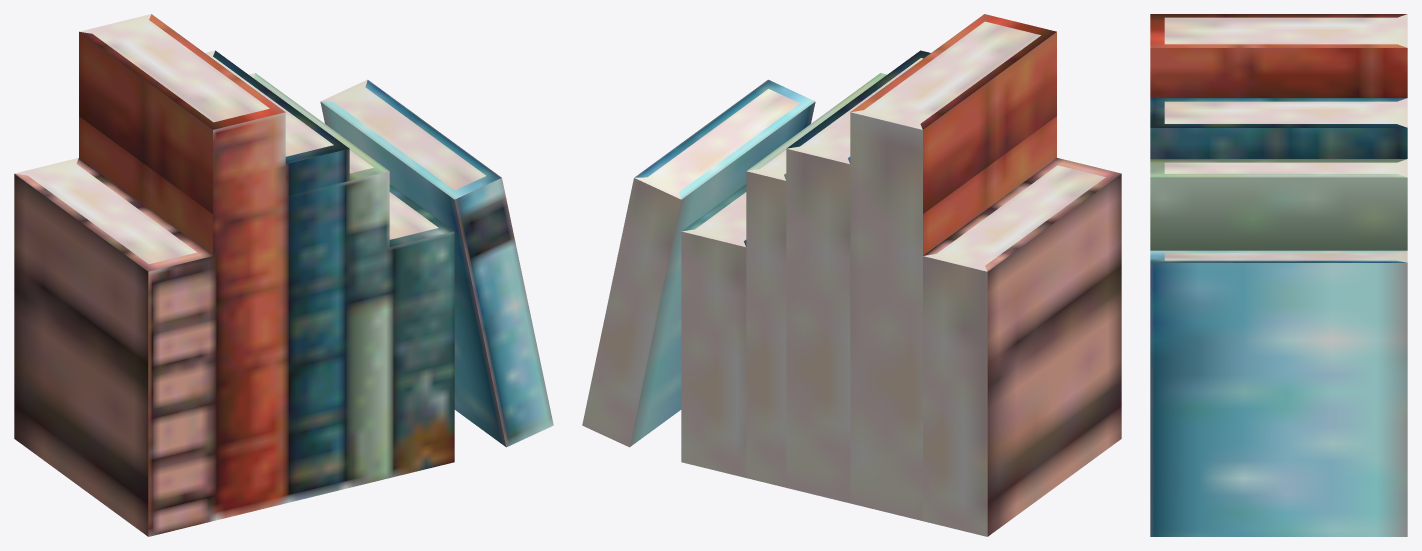
The model's file is books_alt.obj.
The picture shows the model from 3 angles, left to right: view 1: azimuth 30°, elevation 25°; view 2: azimuth 150°, elevation 25°; view 3: azimuth 270°, elevation 25°; orthographic projection. The views are drawn at different scales.
Visible parts, largest first — view 1: books_alt; view 2: books_alt; view 3: books_alt.
Part boxes in pixels (x1,y1,x2,y2): books_alt: (14,14,553,536); books_alt: (582,14,1121,536); books_alt: (1150,14,1407,536).
Bounding box in the file's own units: 0.3924 × 0.3618 × 0.225.
